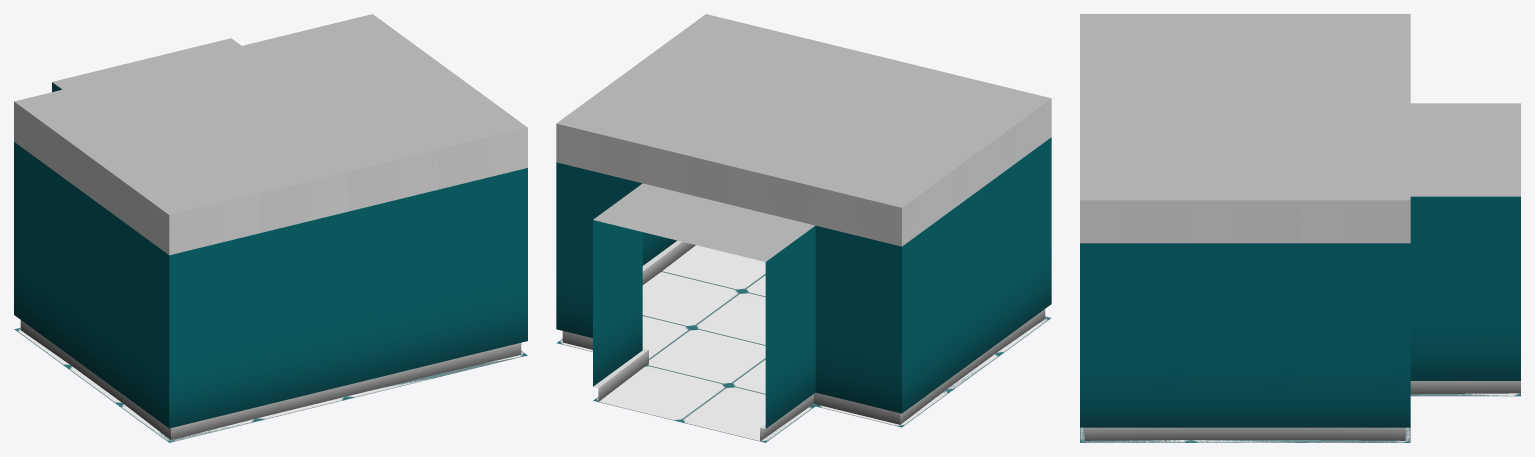
The model's file is SalaPequenaTec.fbx.
3 renders of one model, left to right at view 1: azimuth 30°, elevation 25°; view 2: azimuth 150°, elevation 25°; view 3: azimuth 270°, elevation 25°, orthographic. The views are drawn at different scales.
Visible parts, largest first — view 1: SalaPequenaTec; view 2: SalaPequenaTec; view 3: SalaPequenaTec.
Boxes of the visible parts, x1,y1,x2,y2 form: SalaPequenaTec: (14,14,527,442); SalaPequenaTec: (556,14,1051,442); SalaPequenaTec: (1080,14,1520,442).
Size of the model in its own units: 400 by 243 by 400.
1 material, 1 textured.
